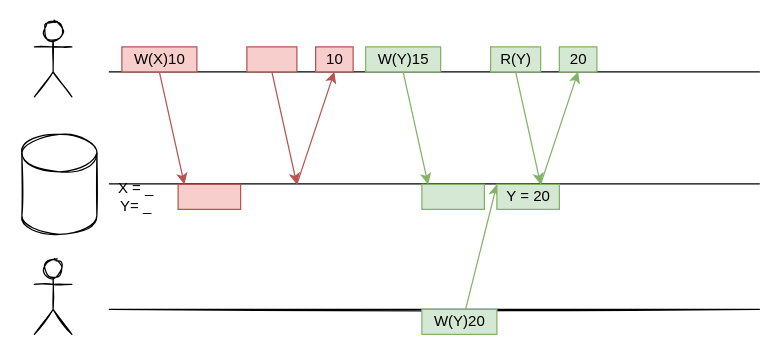
The diagram is 783 pixels wide and 356 high, and some of its shapes have lost their labels. Each missing label, with the centre of its shape:
"R(X)" goes at (x=271, y=59).
"X = 10" goes at (x=209, y=196).
"Y = 15" goes at (x=452, y=196).
